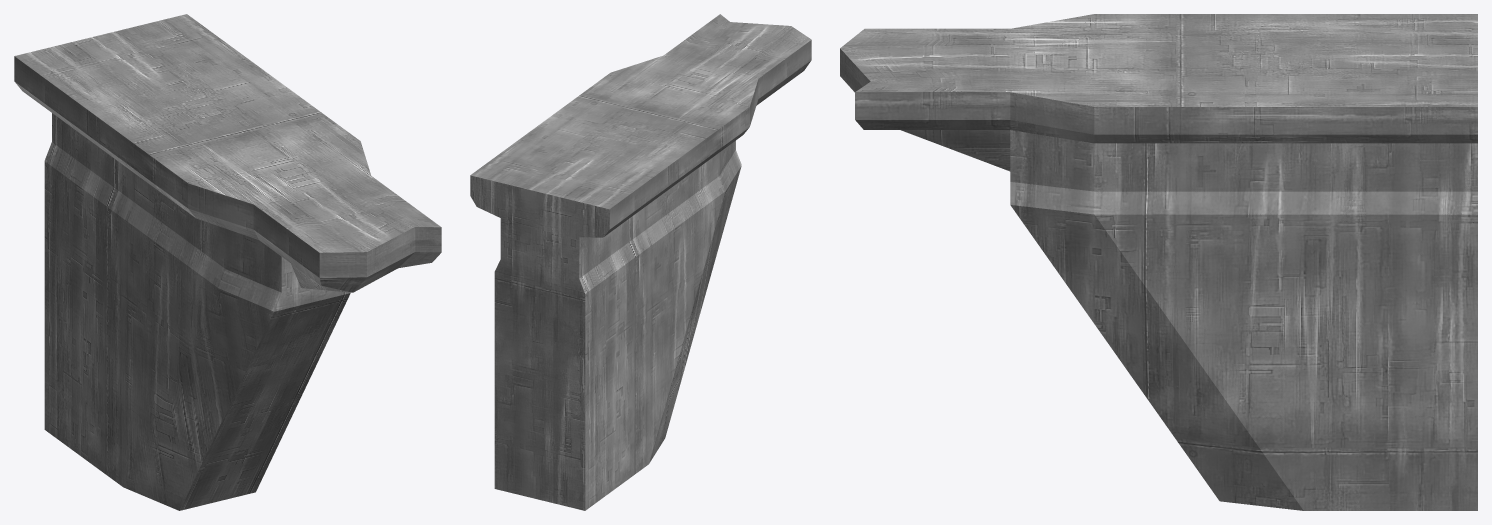
The model's file is Bridge_02_Broken.fbx.
3 views of the same model, side by side, from view 1: azimuth 30°, elevation 25°; view 2: azimuth 150°, elevation 25°; view 3: azimuth 270°, elevation 25° (orthographic). The views are drawn at different scales.
Parts seen in each view (by area): view 1: Bridge_02_Broken; view 2: Bridge_02_Broken; view 3: Bridge_02_Broken.
Part boxes in pixels (x1,y1,x2,y2): Bridge_02_Broken: [14, 14, 441, 510]; Bridge_02_Broken: [470, 14, 811, 510]; Bridge_02_Broken: [840, 14, 1477, 510].
Bounding box in the file's own units: 1470 × 3100 × 4263.
